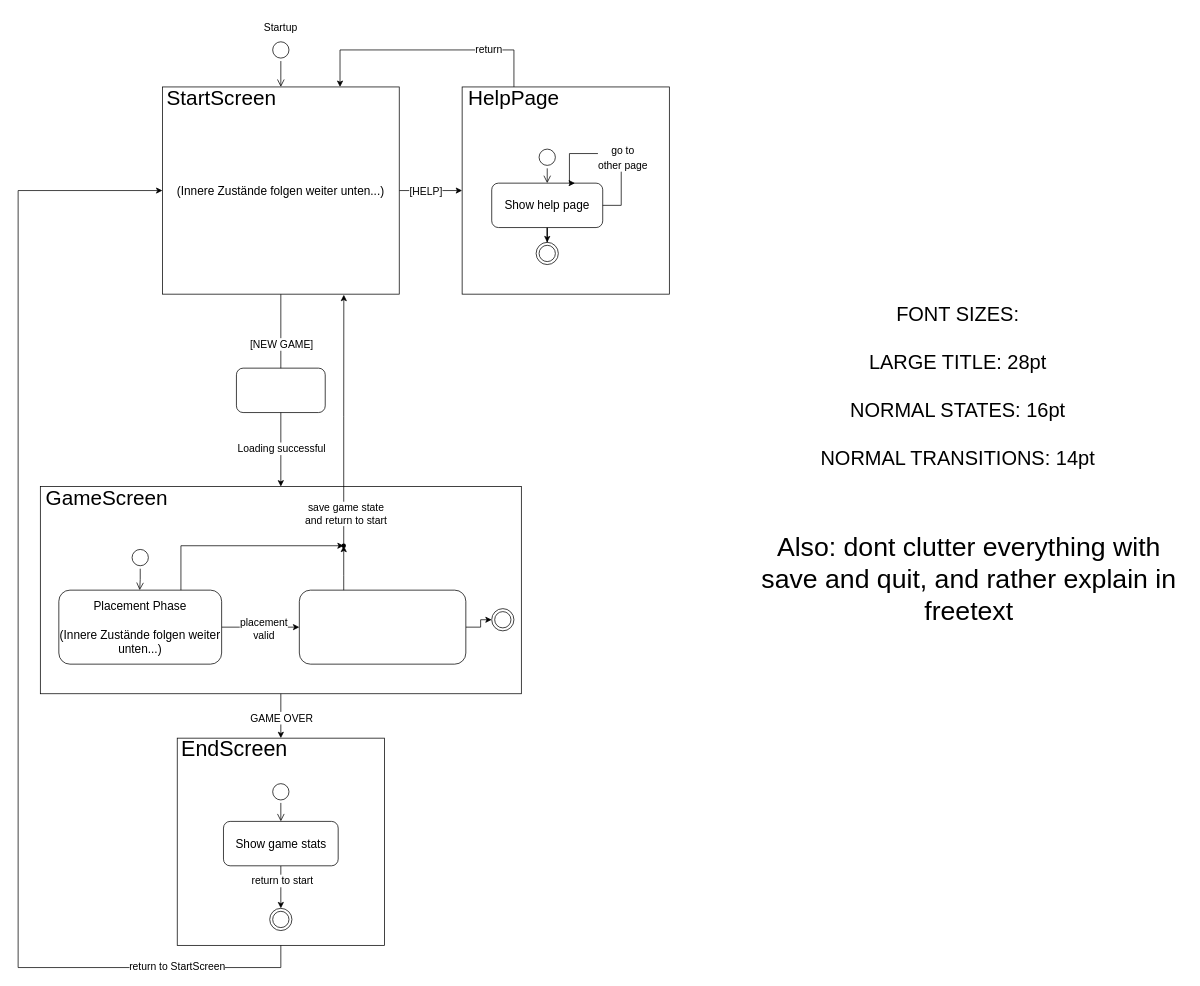
The diagram is 1200 pixels wide and 986 high, and some of its shapes have lost their labels. Here are the shapes that lost their labels. From the top down, the box of each, then its label:
(236, 367, 325, 413): Loading Game...
(299, 589, 466, 664): Attack Phase (Innere Zustände folgen weiter unten...)
